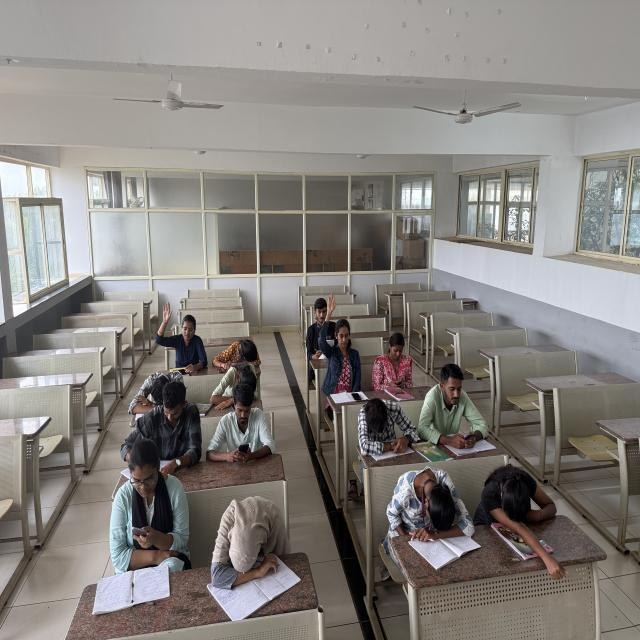Hand Rising: (145, 277, 219, 368), (316, 284, 375, 389)
Sleeping: (181, 475, 305, 603), (473, 417, 570, 534), (383, 457, 466, 535), (120, 359, 198, 431), (206, 306, 272, 377), (197, 343, 267, 404), (355, 396, 420, 446)
Using Phone: (104, 438, 202, 557), (422, 365, 499, 466), (204, 387, 289, 469), (376, 326, 420, 402)
Writing: (300, 298, 330, 379)
